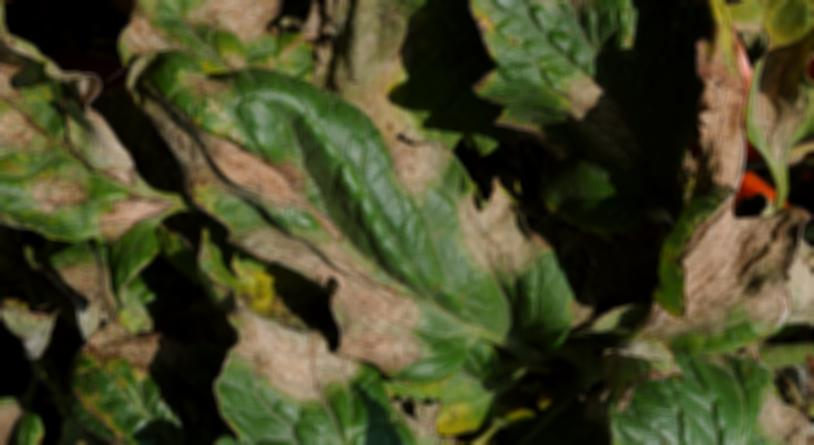Tomato leaf late blight: (130, 30, 587, 375), (602, 121, 814, 416), (0, 0, 187, 258), (457, 0, 697, 196), (196, 292, 492, 445), (576, 355, 814, 445)
